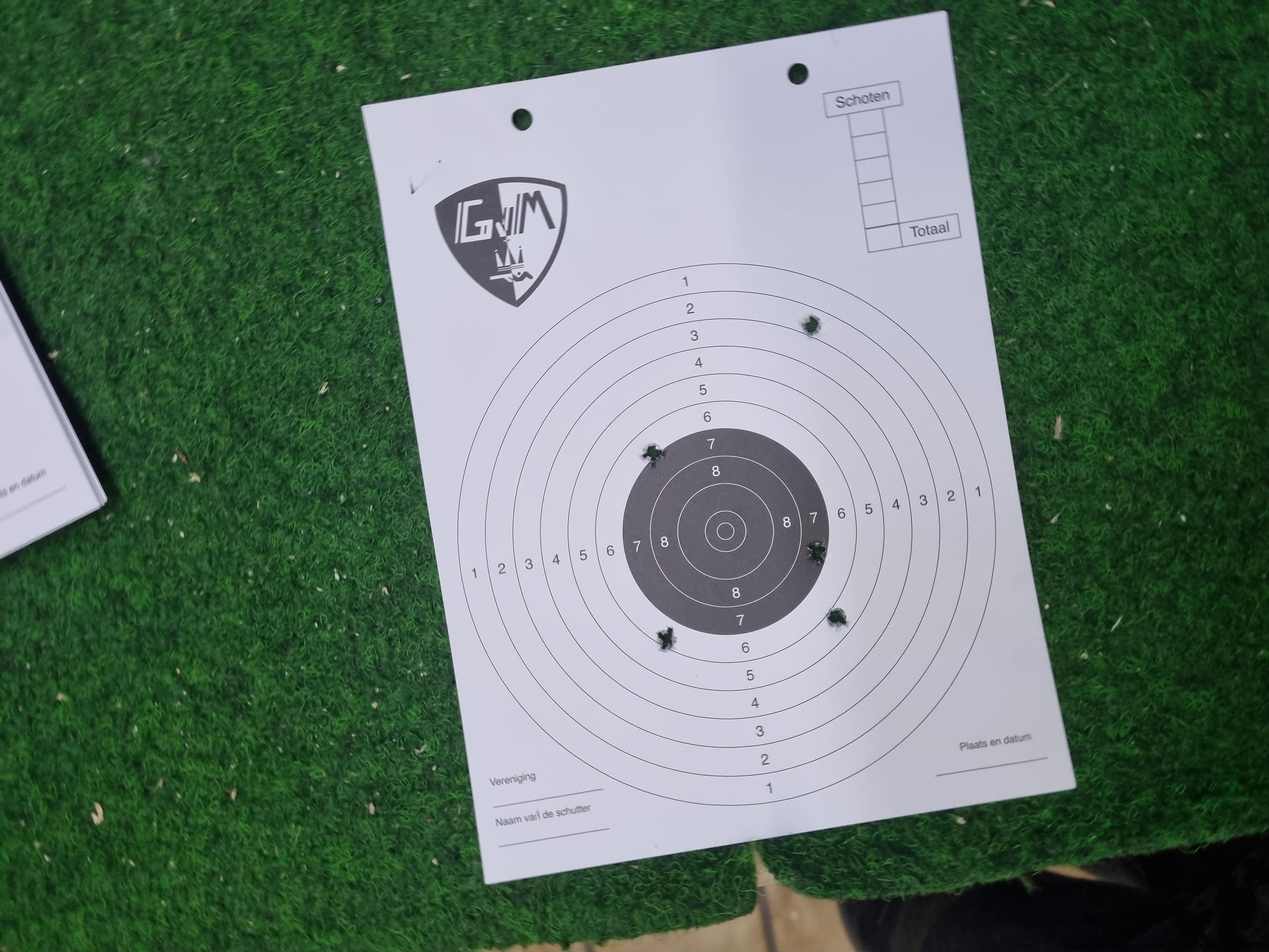hole: (426, 619, 459, 638), (646, 481, 679, 500), (815, 600, 850, 617), (399, 492, 435, 508), (515, 604, 548, 621)
